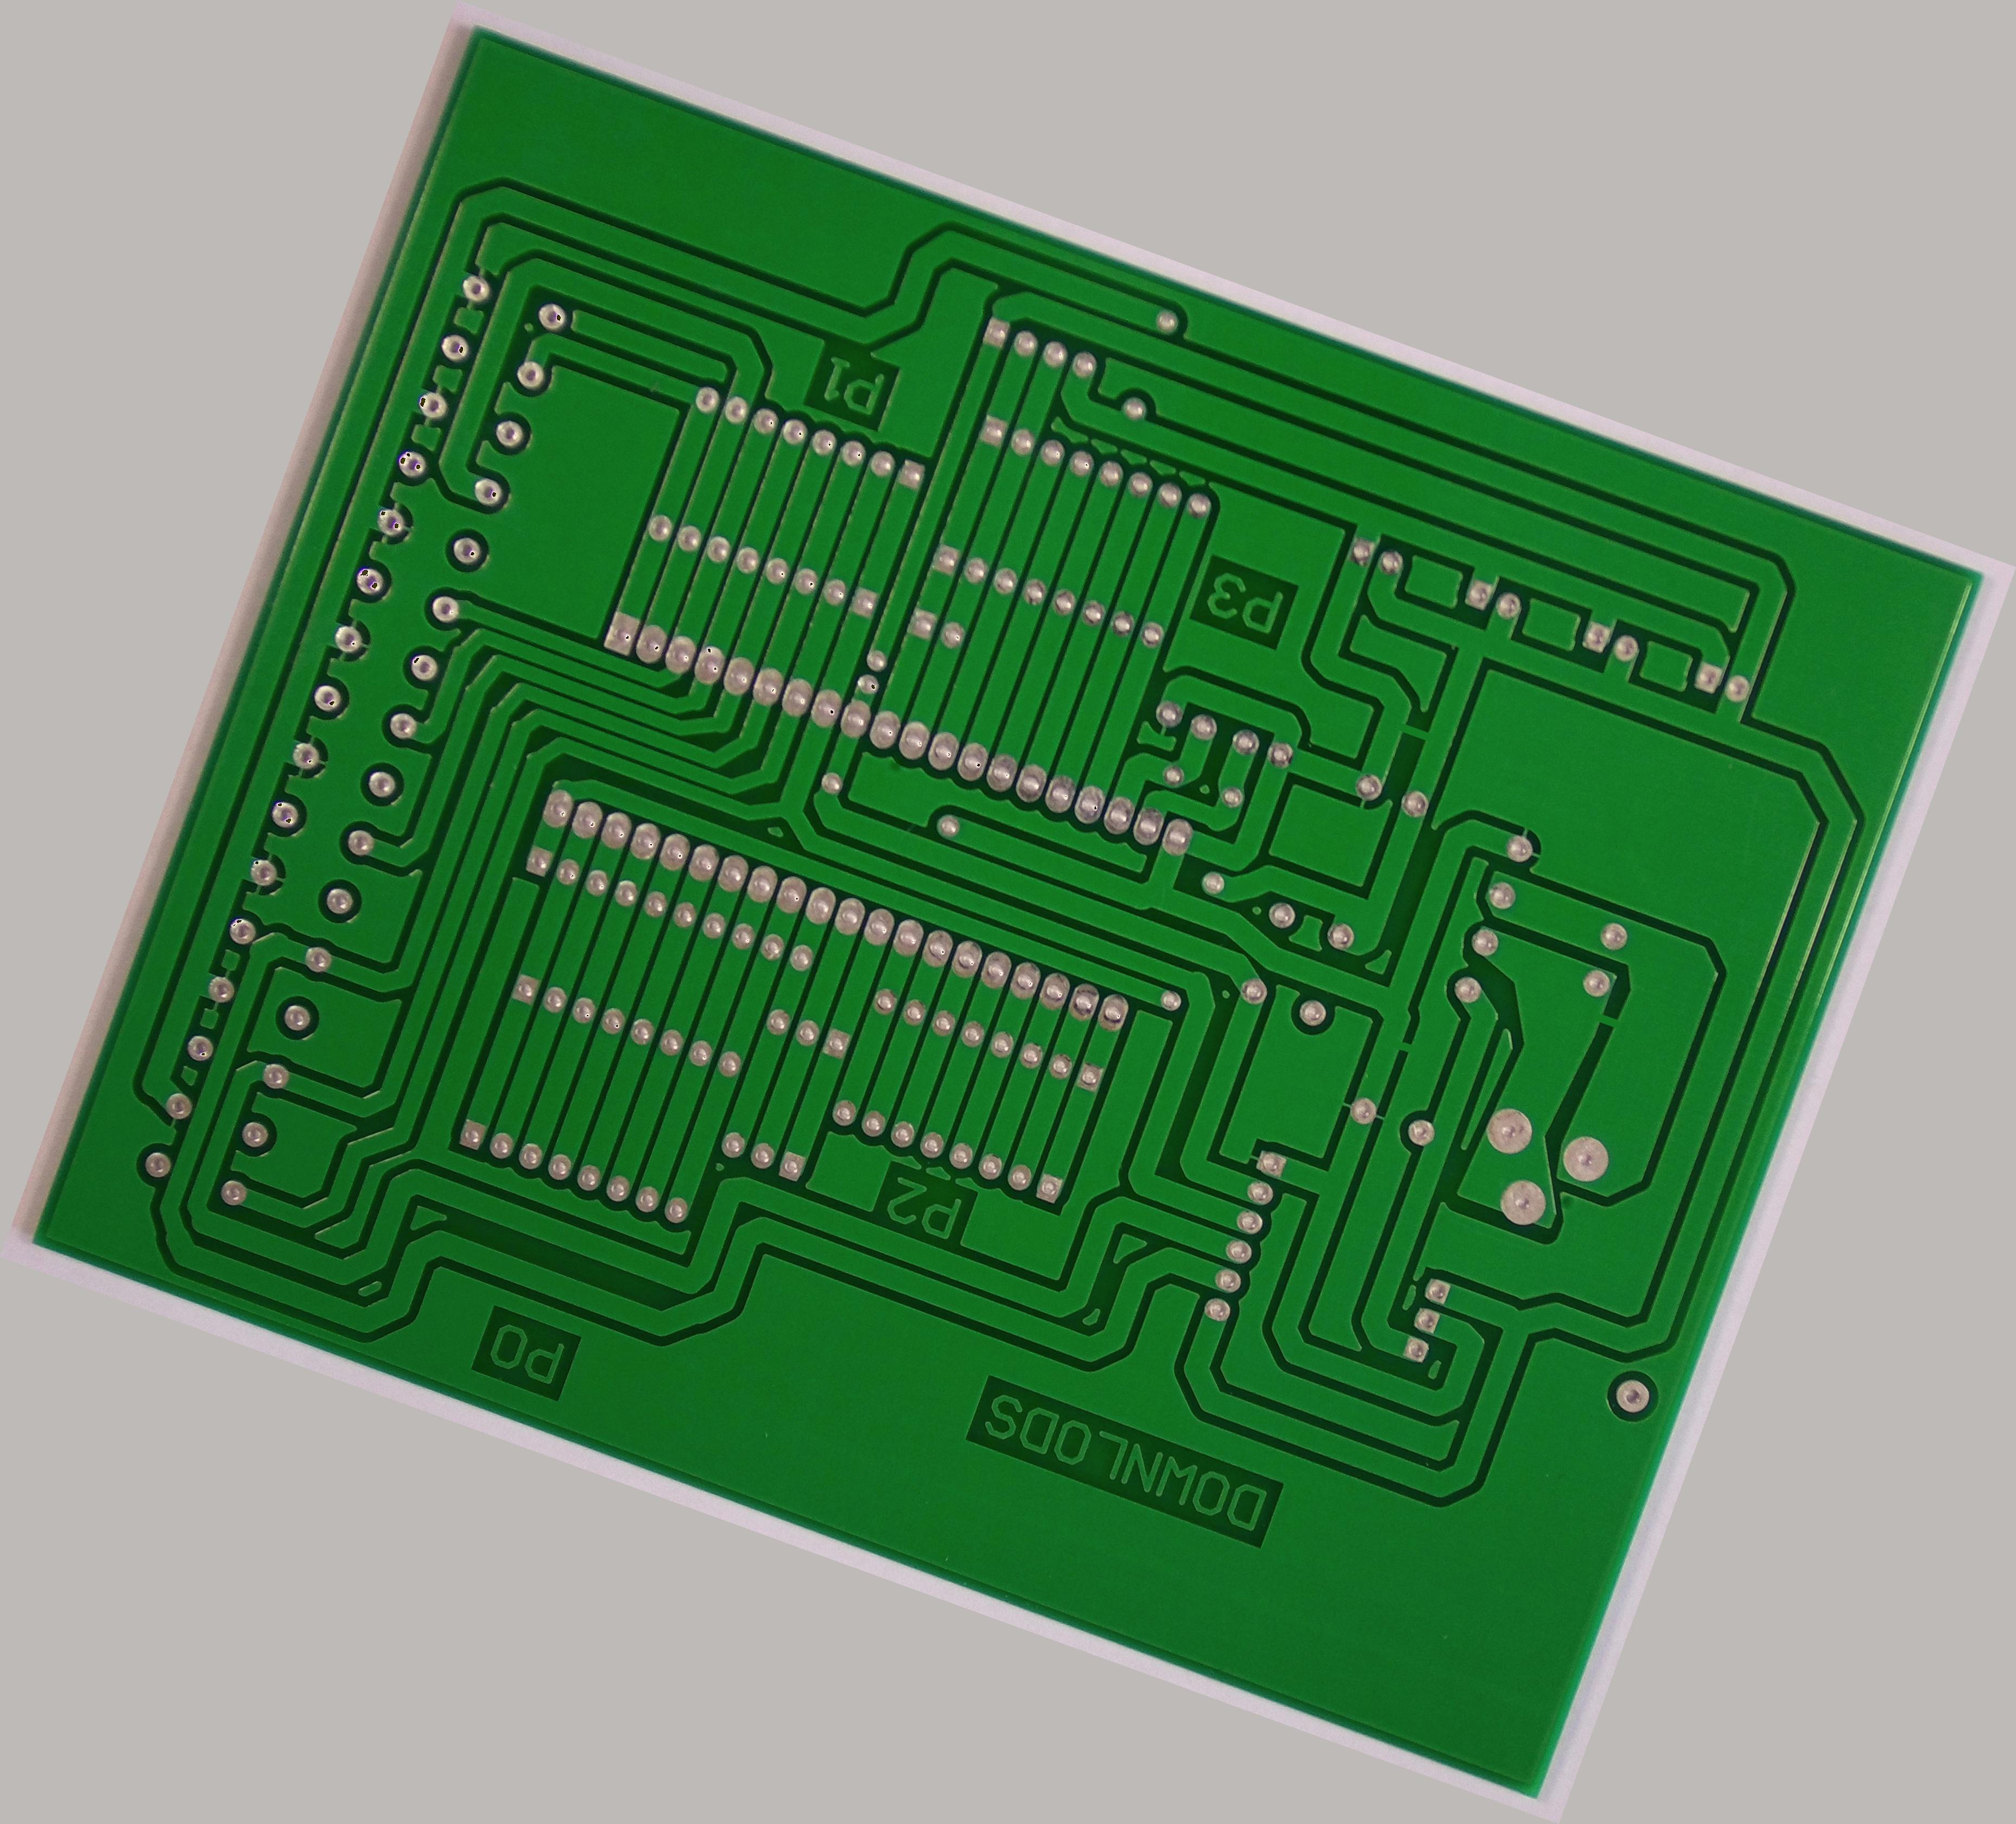short: (1364, 1006, 1449, 1090), (1379, 690, 1461, 774), (1568, 980, 1651, 1062)
